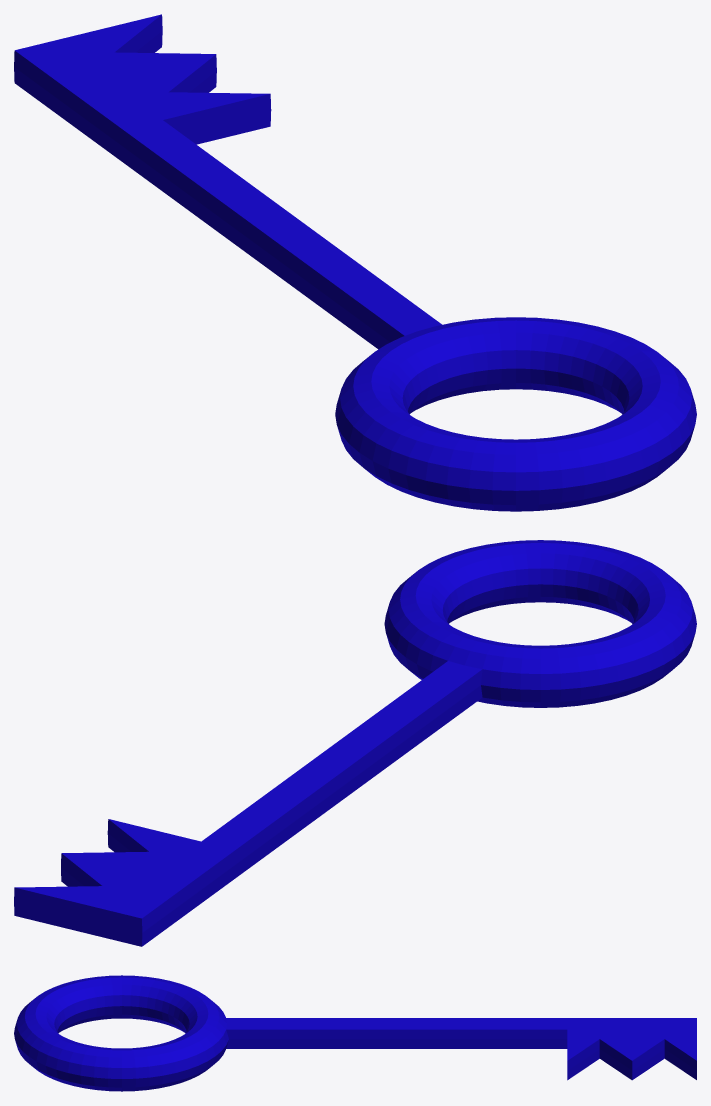
The model's file is Bluekey.fbx.
3 renders of one model, top to bottom at view 1: azimuth 30°, elevation 25°; view 2: azimuth 150°, elevation 25°; view 3: azimuth 270°, elevation 25°, orthographic. The views are drawn at different scales.
Visible parts, largest first — view 1: Torus; view 2: Torus; view 3: Torus.
Boxes of the visible parts, box(x1,y1,x2,y2) form: Torus: box(14, 14, 696, 511); Torus: box(14, 540, 696, 946); Torus: box(14, 975, 696, 1091).
Size of the model in its own units: 250 by 50 by 791.
